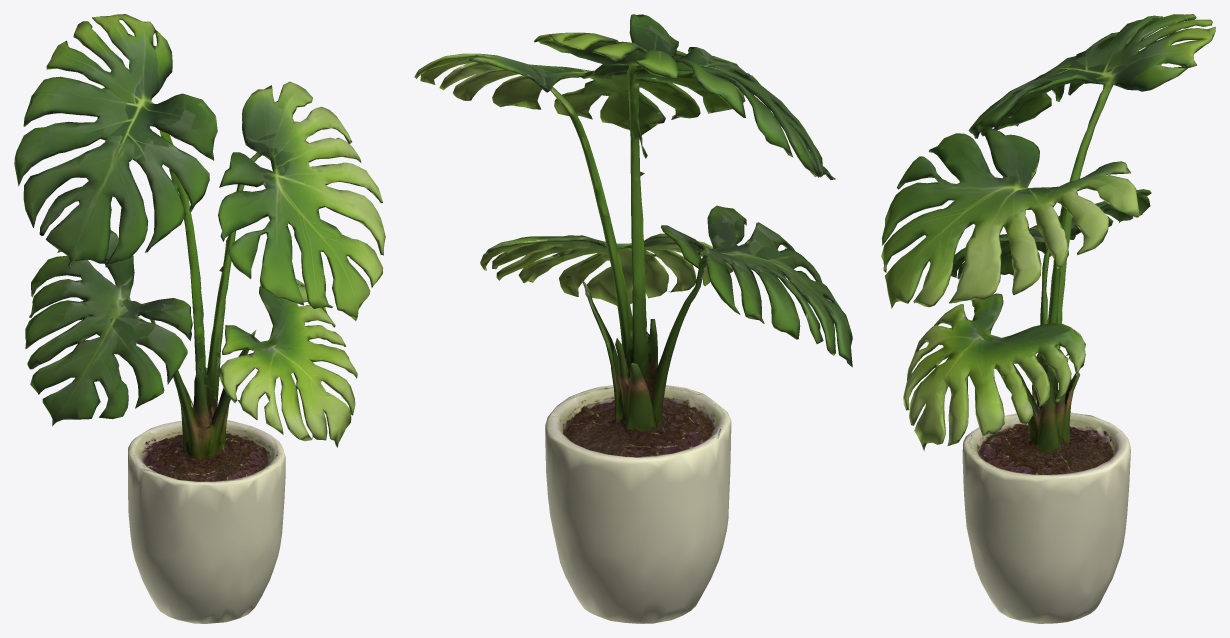
File: Meshy_AI_Monstera_Serenity_0106212927_texture.fbx
3 views of the same model, side by side, from view 1: azimuth 30°, elevation 25°; view 2: azimuth 150°, elevation 25°; view 3: azimuth 270°, elevation 25° (orthographic). The views are drawn at different scales.
Visible parts, largest first — view 1: Mesh_0; view 2: Mesh_0; view 3: Mesh_0.
Boxes of the visible parts, x1=… form: Mesh_0: x1=14, y1=14, x2=385, y2=623; Mesh_0: x1=414, y1=14, x2=852, y2=623; Mesh_0: x1=881, y1=14, x2=1215, y2=623.
Bounding box in the file's own units: 124 × 191 × 104.
1 material, 1 textured.
